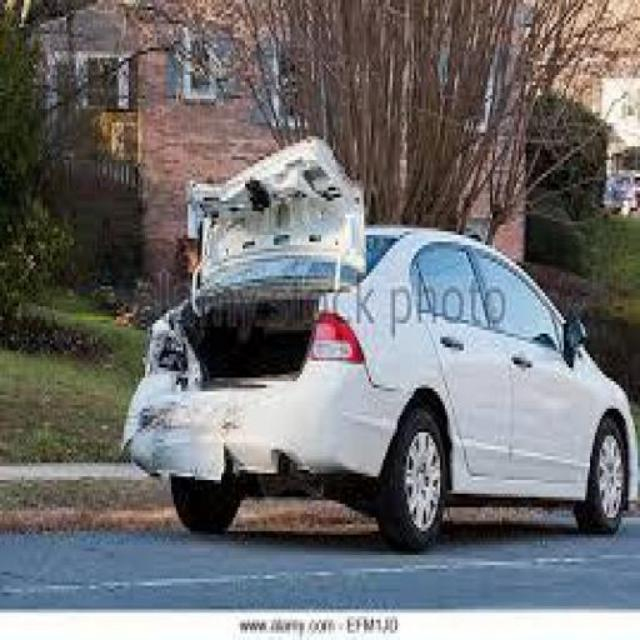dislocated part: (124, 141, 362, 484)
